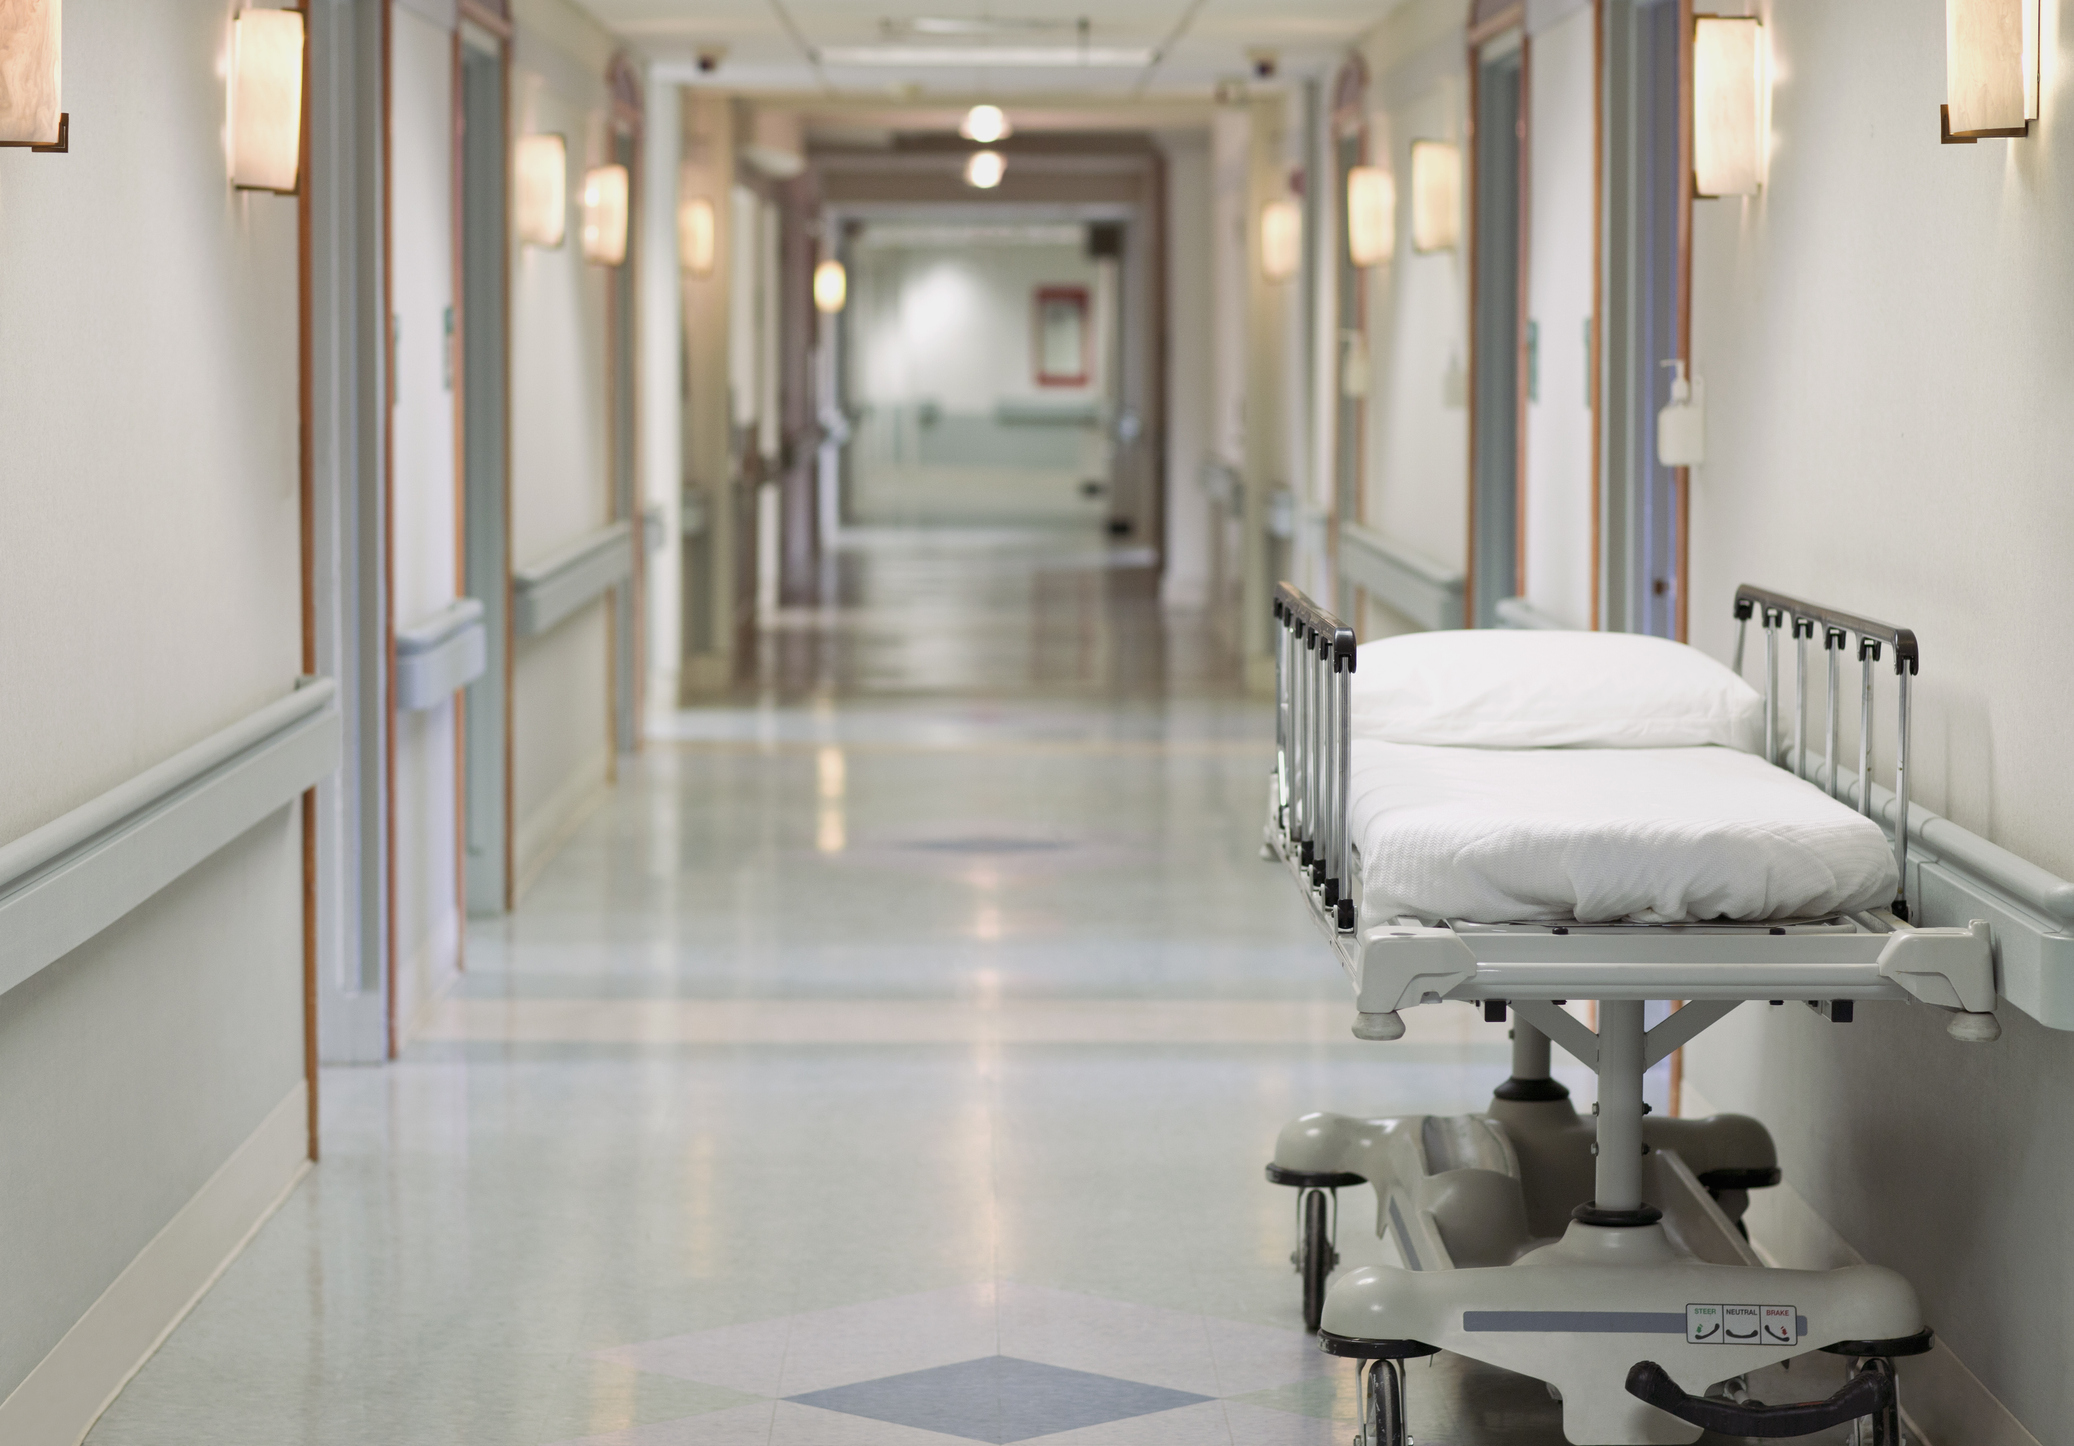bedrail: (1734, 580, 1931, 921), (1270, 581, 1374, 929)
dispenser: (1647, 353, 1712, 469)
hallway_assist_bar: (2, 674, 333, 991), (514, 523, 640, 632), (394, 591, 484, 710)
hospital_bed: (1261, 578, 2005, 1446)
